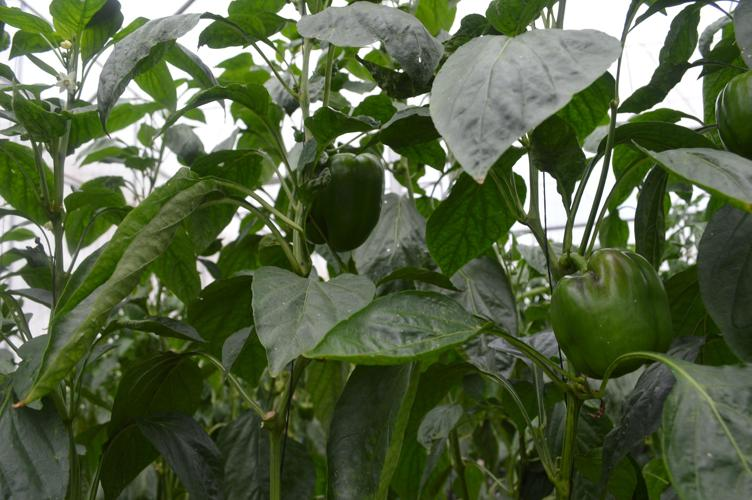BellPepper: (551, 247, 670, 366), (312, 154, 386, 252), (712, 75, 752, 154)
